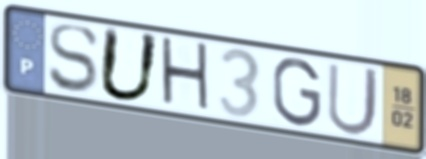3: (217, 46, 266, 121)
G: (269, 55, 324, 129)
H: (158, 33, 214, 117)
S: (46, 22, 102, 95)
U: (95, 24, 164, 105), (324, 59, 382, 139)
